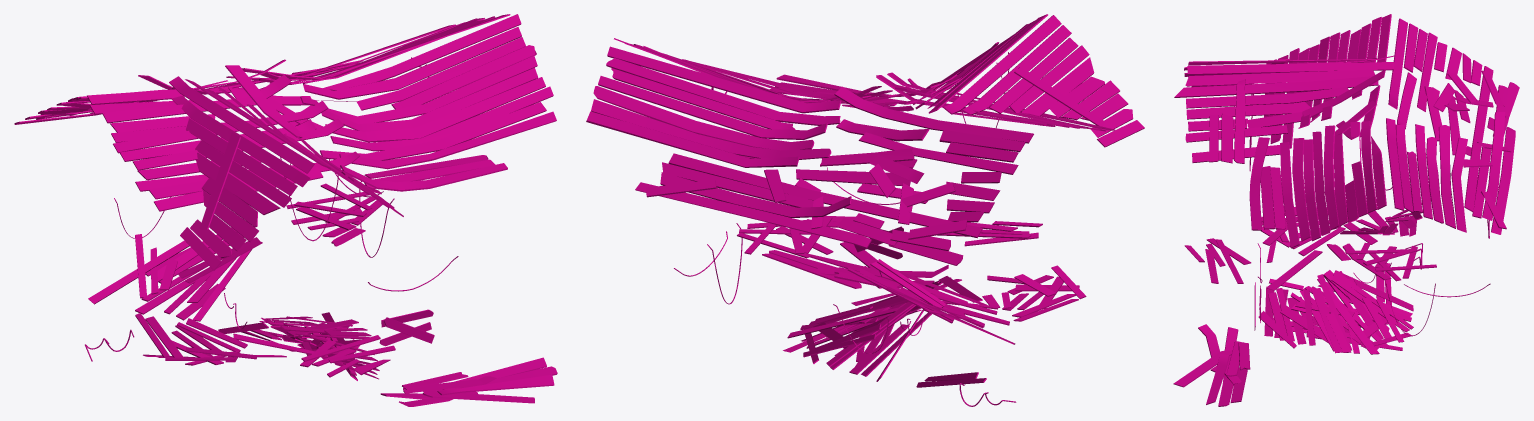
Rendered from MI_SmallLodge_Miscellaneous.fbx.
3 views of the same model, side by side, from view 1: azimuth 30°, elevation 25°; view 2: azimuth 150°, elevation 25°; view 3: azimuth 270°, elevation 25° (orthographic). The views are drawn at different scales.
Parts seen in each view (by area): view 1: SM_ST_SmallLodge01.mo; view 2: SM_ST_SmallLodge01.mo; view 3: SM_ST_SmallLodge01.mo.
Part boxes in pixels (<box>): SM_ST_SmallLodge01.mo: <box>14,14,557,406</box>; SM_ST_SmallLodge01.mo: <box>586,14,1144,406</box>; SM_ST_SmallLodge01.mo: <box>1173,14,1519,406</box>.
Size of the model in its own units: 1390 by 1151 by 903.
